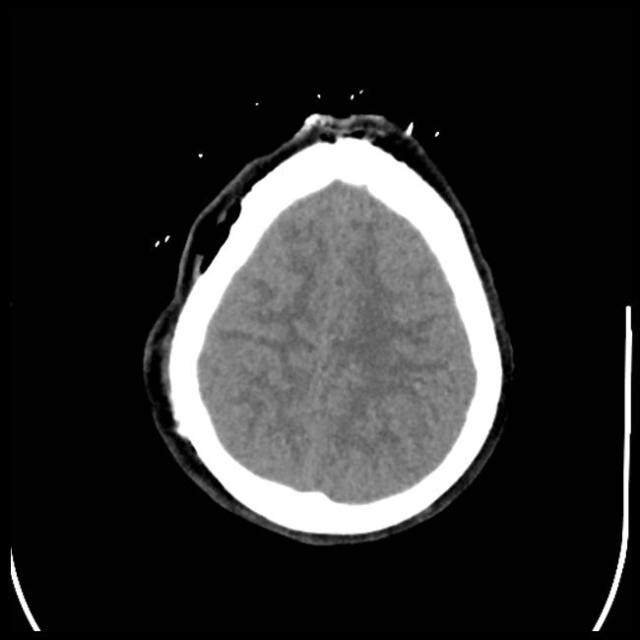lesion: (139, 108, 517, 548)
